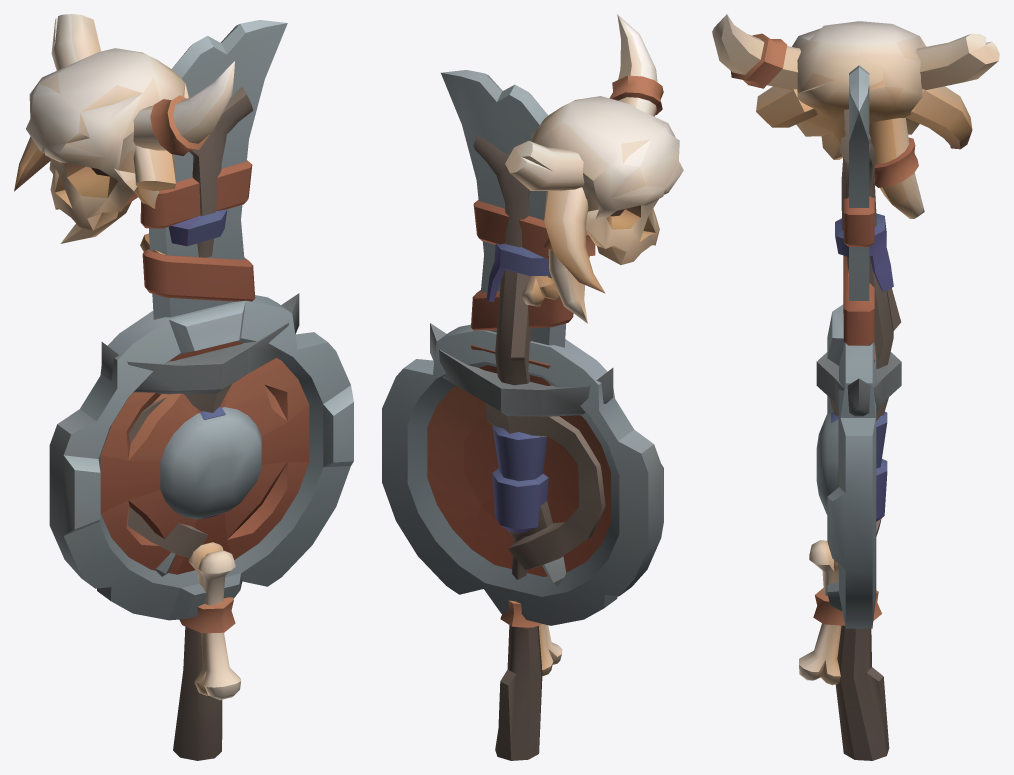
Rendered from props.glb.
The picture shows the model from 3 angles, left to right: view 1: azimuth 30°, elevation 25°; view 2: azimuth 150°, elevation 25°; view 3: azimuth 270°, elevation 25°; orthographic projection. The views are drawn at different scales.
Visible parts, largest first — view 1: Skeleton_Shield_Small_A, Skeleton_Staff, Skeleton_Blade; view 2: Skeleton_Shield_Small_A, Skeleton_Staff, Skeleton_Blade; view 3: Skeleton_Staff, Skeleton_Shield_Small_A, Skeleton_Blade.
Boxes of the visible parts, left/top/right/bottom form: Skeleton_Shield_Small_A: left=49, top=295, right=353, bottom=620; Skeleton_Staff: left=14, top=14, right=252, bottom=760; Skeleton_Blade: left=101, top=20, right=299, bottom=576; Skeleton_Shield_Small_A: left=382, top=324, right=663, bottom=625; Skeleton_Staff: left=473, top=14, right=683, bottom=760; Skeleton_Blade: left=430, top=70, right=613, bottom=585; Skeleton_Staff: left=712, top=14, right=999, bottom=760; Skeleton_Shield_Small_A: left=816, top=304, right=876, bottom=628; Skeleton_Blade: left=816, top=65, right=901, bottom=536.
Bounding box in the file's own units: 0.8739 × 2.1 × 0.7534.
1 material, 1 textured.
